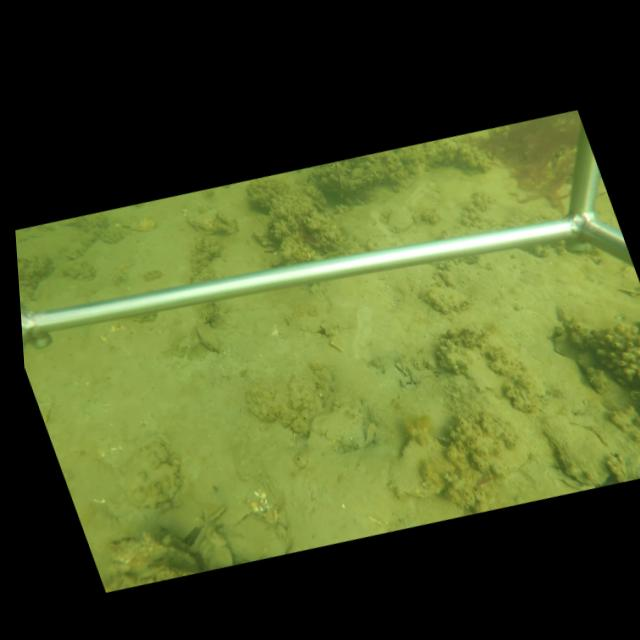Oyster-Closed: (537, 413, 616, 487), (194, 322, 224, 354), (183, 205, 220, 228)
Oyster-Indeterminate: (381, 432, 457, 502)
